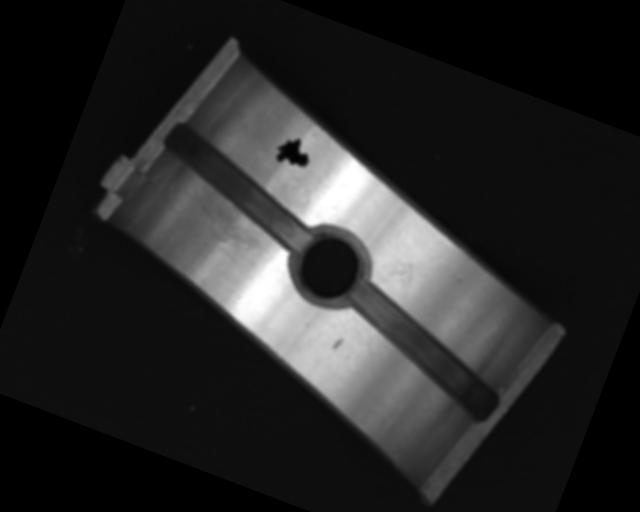blot: (270, 130, 316, 172)
bruise: (330, 334, 344, 352)
gap: (326, 278, 519, 422), (145, 119, 334, 253)
hole: (284, 217, 377, 312)
scratch: (168, 177, 285, 264)
